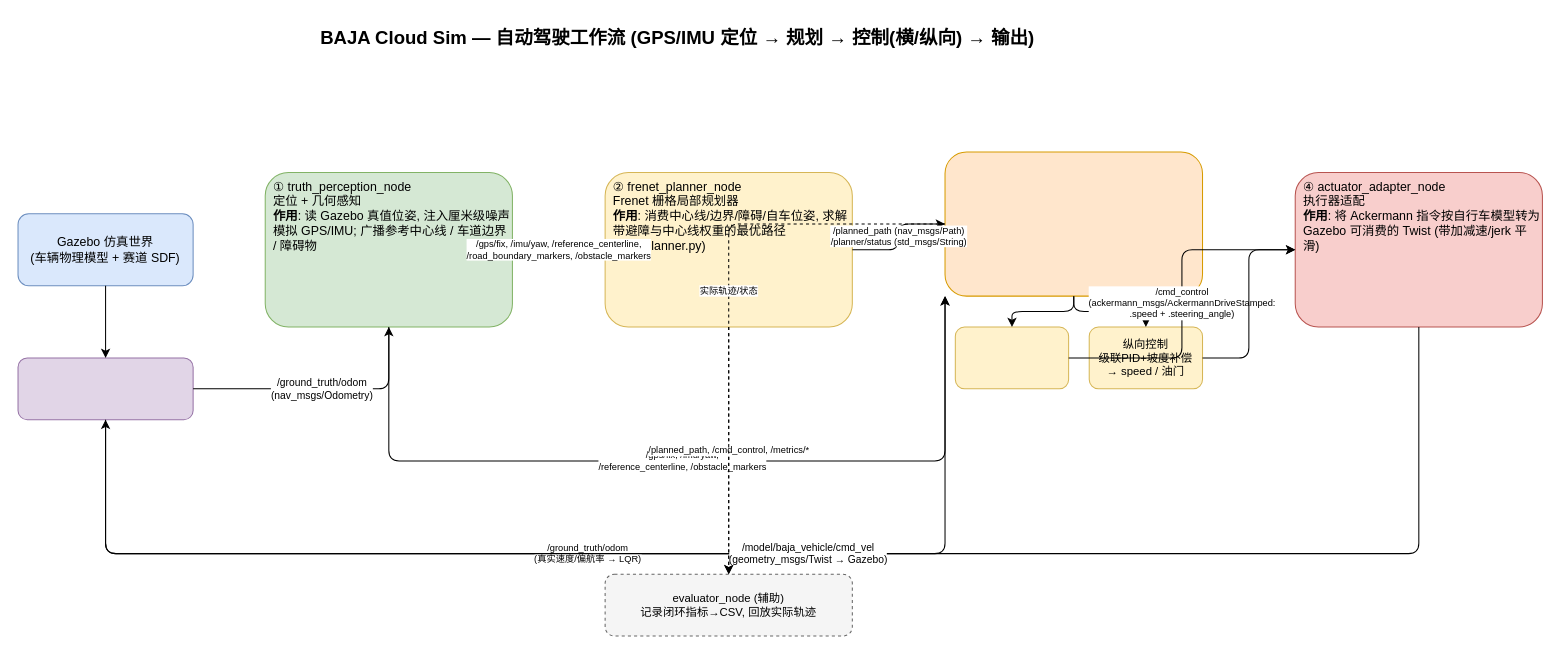
Image size: 1560x654. Some labels were removed from this diagram. Each missing label, with the box of its shape:
ros_gz_bridge (config/bridge.yaml): (17, 357, 193, 420)
③ path_follower_node 路径跟踪控制器 (20Hz) 作用 : 综合规划路径+定位+感知, 分横向/纵向控制输出阿克曼指令: (944, 151, 1203, 296)
横向控制 LQR / 纯跟踪 → steering_angle: (954, 326, 1069, 389)
